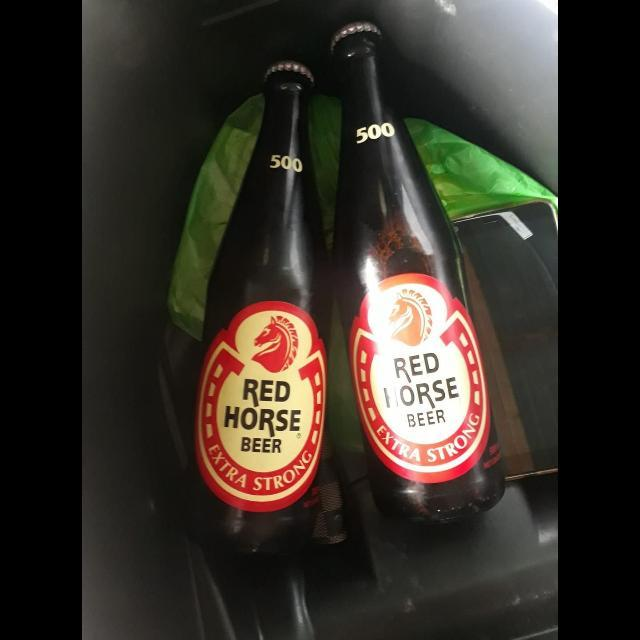glass: (331, 22, 505, 527), (190, 62, 330, 560)
